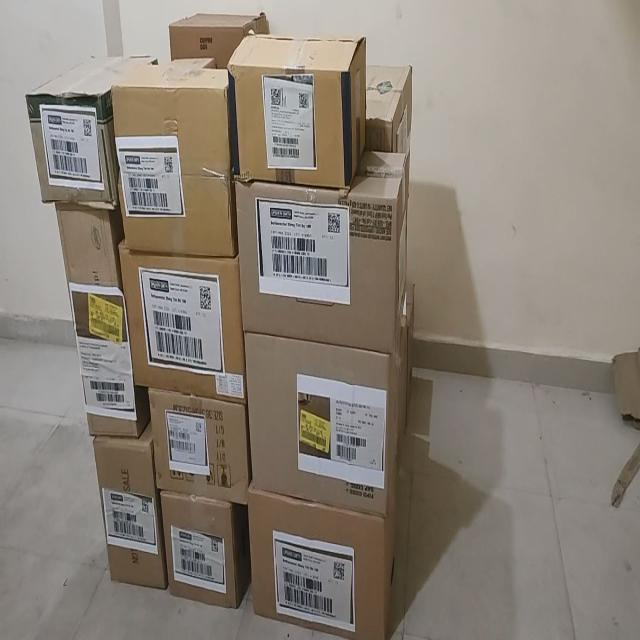BoxFace: (243, 292, 411, 518), (233, 147, 410, 353), (110, 57, 236, 258), (246, 476, 398, 638), (227, 31, 367, 191), (53, 200, 142, 438), (118, 237, 246, 402), (91, 428, 168, 590), (147, 385, 249, 504), (24, 79, 114, 210), (158, 488, 250, 609)
